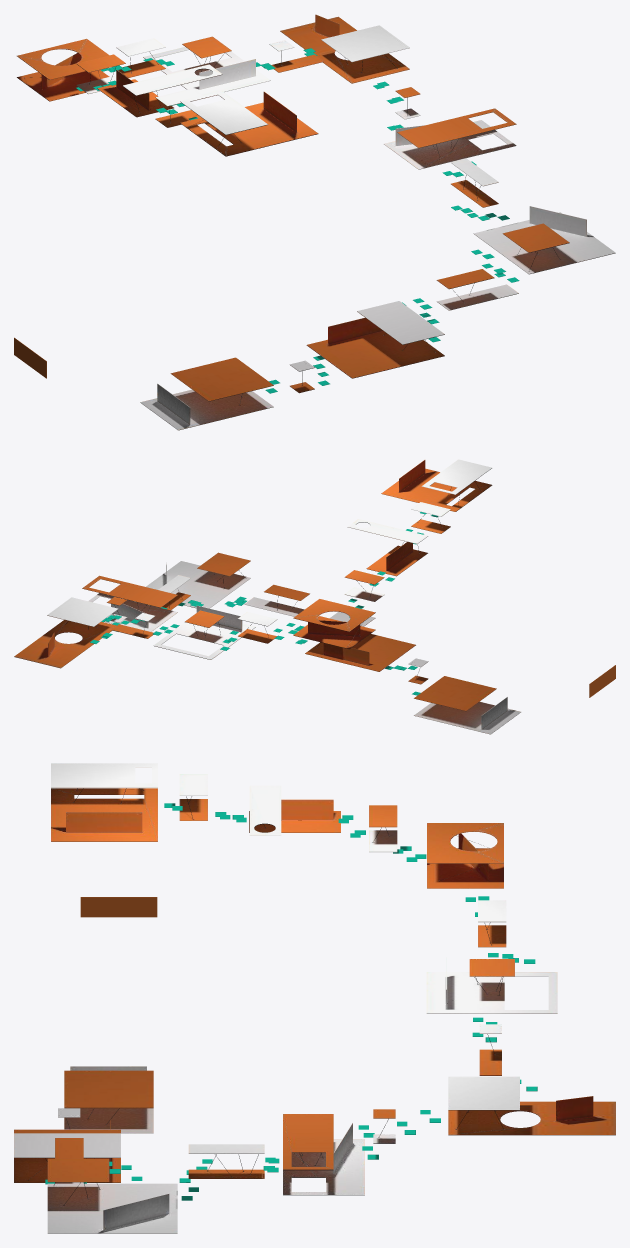
Rendered from Level.glb.
The picture shows the model from 3 angles, top to bottom: view 1: azimuth 30°, elevation 25°; view 2: azimuth 150°, elevation 25°; view 3: azimuth 270°, elevation 25°; orthographic projection. The views are drawn at different scales.
Parts seen in each view (by area): view 1: TUTTUNO.002, SCALINO.027, SCALINO.001, Verticale.007; view 2: TUTTUNO.002, SCALINO.027, SCALINO.001, Verticale.007; view 3: TUTTUNO.002, Verticale.007, SCALINO.027, SCALINO.001.
Part boxes in pixels (<box>): TUTTUNO.002: <box>17,14,615,430</box>; SCALINO.027: <box>76,48,519,393</box>; SCALINO.001: <box>108,52,505,384</box>; Verticale.007: <box>14,337,46,378</box>; TUTTUNO.002: <box>14,459,520,734</box>; SCALINO.027: <box>90,514,438,669</box>; SCALINO.001: <box>101,512,426,695</box>; Verticale.007: <box>589,665,615,697</box>; TUTTUNO.002: <box>14,763,615,1233</box>; Verticale.007: <box>80,897,157,917</box>; SCALINO.027: <box>45,803,537,1200</box>; SCALINO.001: <box>109,806,521,1191</box>.
Size of the model in its own units: 179 by 89.2 by 143.
3 materials, 2 textured.
